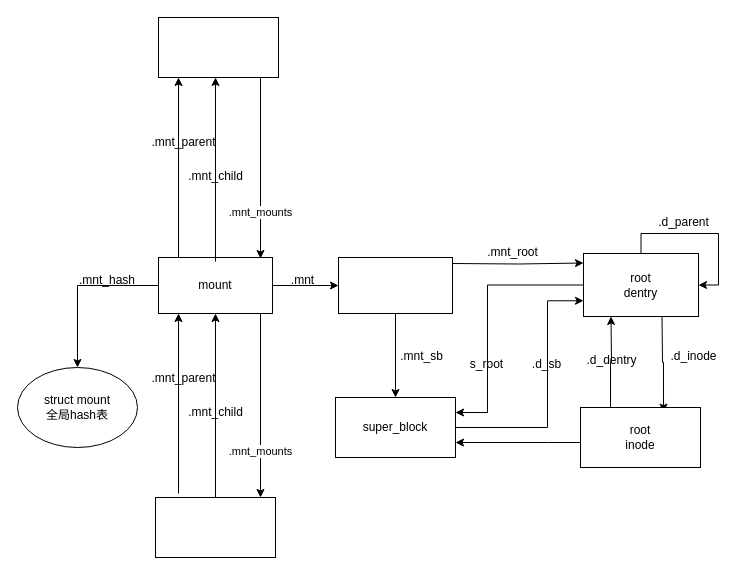
Some shapes in this 746 by 575 pixel diagram are drawn without their labels. Each missing label, with the box of its shape:
child mount: (154, 496, 276, 558)
parent mount: (158, 16, 278, 78)
vfsmount: (338, 256, 452, 314)
